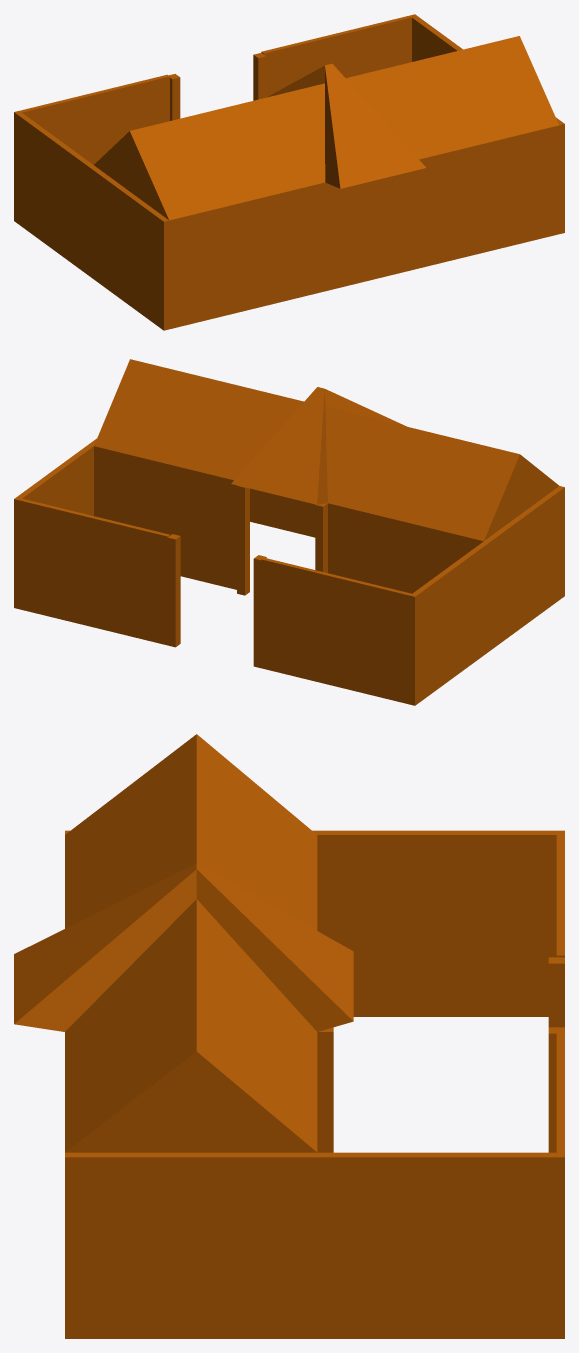
Rendered from kaserne.fbx.
The picture shows the model from 3 angles, top to bottom: view 1: azimuth 30°, elevation 25°; view 2: azimuth 150°, elevation 25°; view 3: azimuth 270°, elevation 25°; orthographic projection. The views are drawn at different scales.
Parts seen in each view (by area): view 1: Cube.076, Cube.012, Cube.005, Cube.060, Cube.061, Cube.065, Cube.008, Cube.014, Cube.059, Cube.064, Cube.066, Cube.070 (+30 smaller); view 2: Cube.076, Cube.012, Cube.037, Cube.001, Cube.002, Cube.013, Cube.014, Cube.008, Cube.059, Cube.005, Cube.036, Cube.058 (+57 smaller); view 3: Cube.076, Cube.037, Cube.012, Cube.007, Cube.011, Cube.017, Cube.020, Cube.021, Cube.022, Cube.024, Cube.025, Cube.026 (+35 smaller).
Boxes of the visible parts, x1,y1,x2,y2 form: Cube.076: (14,36,559,226); Cube.012: (14,216,564,330); Cube.005: (14,211,559,325); Cube.060: (14,186,559,300); Cube.061: (14,181,559,295); Cube.065: (14,162,559,275); Cube.008: (14,206,559,320); Cube.014: (14,196,559,310); Cube.059: (14,191,559,305); Cube.064: (14,167,559,280); Cube.066: (14,157,559,271); Cube.070: (14,137,559,251); Cube.076: (94,359,564,601); Cube.012: (14,517,564,705); Cube.037: (14,438,170,541); Cube.001: (167,534,180,647); Cube.002: (237,485,249,595); Cube.013: (250,502,564,690); Cube.014: (250,497,564,685); Cube.008: (250,507,564,695); Cube.059: (250,492,564,680); Cube.005: (250,512,564,700); Cube.036: (14,451,167,546); Cube.058: (261,557,411,600); Cube.076: (14,734,564,1152); Cube.037: (65,1032,564,1165); Cube.012: (65,1008,564,1338); Cube.007: (65,1322,564,1330); Cube.011: (65,1314,564,1322); Cube.017: (65,1306,564,1314); Cube.020: (65,1297,564,1305); Cube.021: (65,1289,564,1297); Cube.022: (65,1281,564,1289); Cube.024: (65,1264,564,1272); Cube.025: (65,1256,564,1264); Cube.026: (65,1248,564,1256).
Size of the model in its own units: 3133 by 1399 by 2234.
